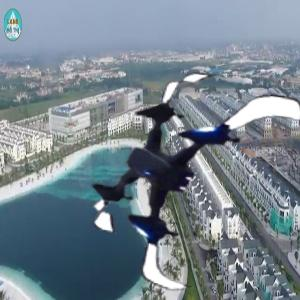drone: (66, 67, 295, 296)
